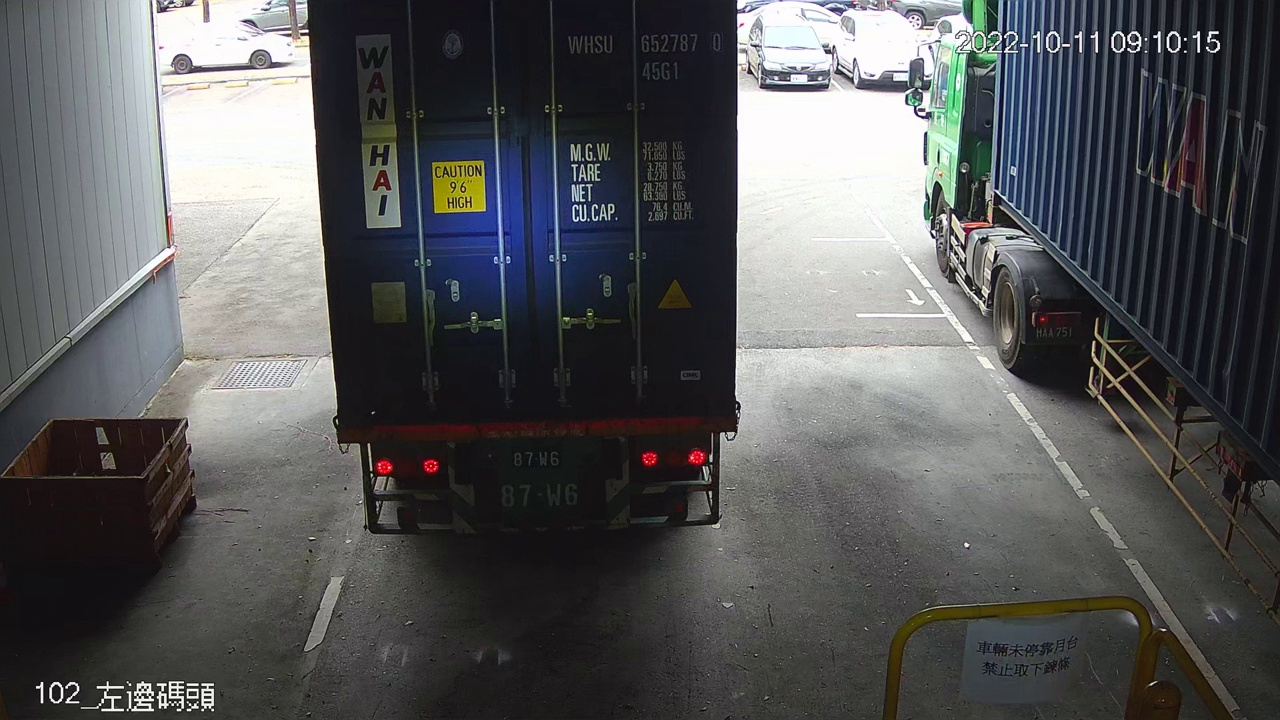container: (560, 23, 728, 89)
